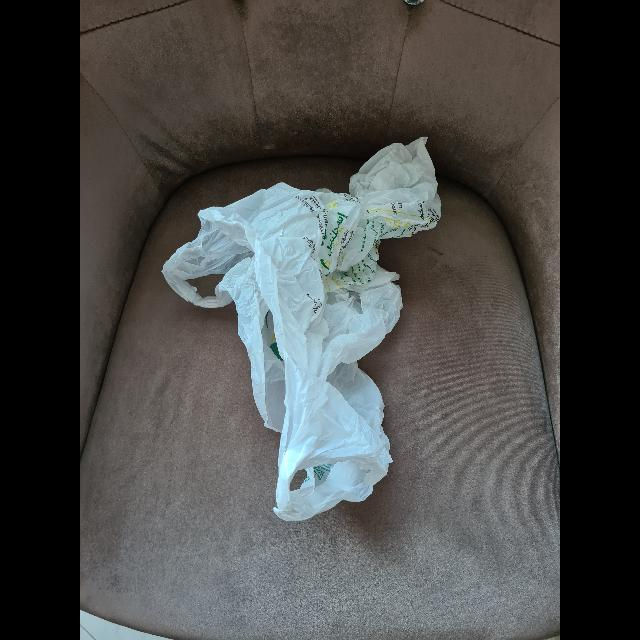plastic_bag: (174, 129, 444, 513)
